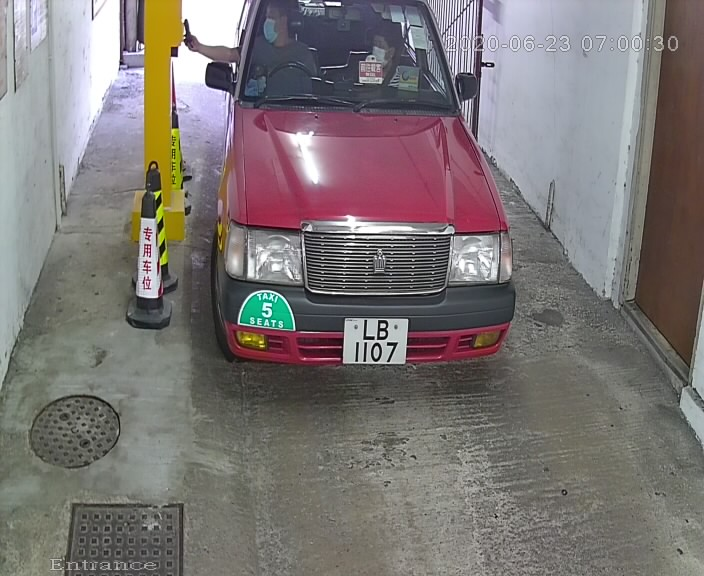taxi: (180, 1, 538, 403)
taxi_mark: (235, 278, 303, 341)
